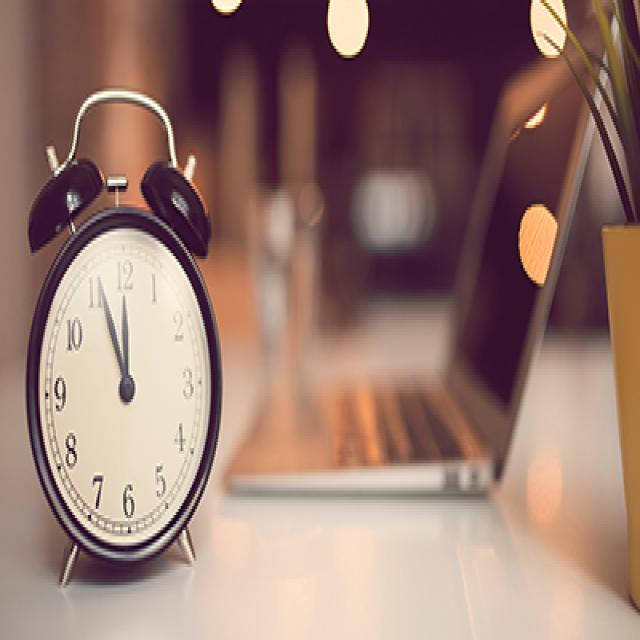clock: (44, 63, 229, 603)
